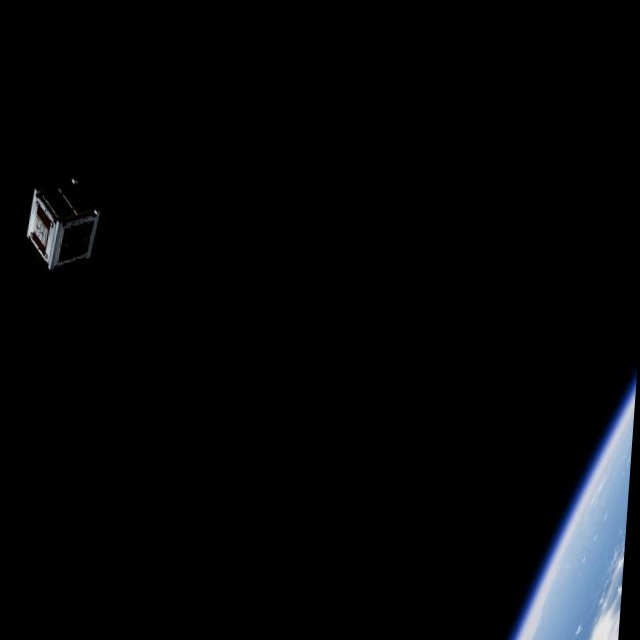medium_debris: (23, 173, 104, 275)
